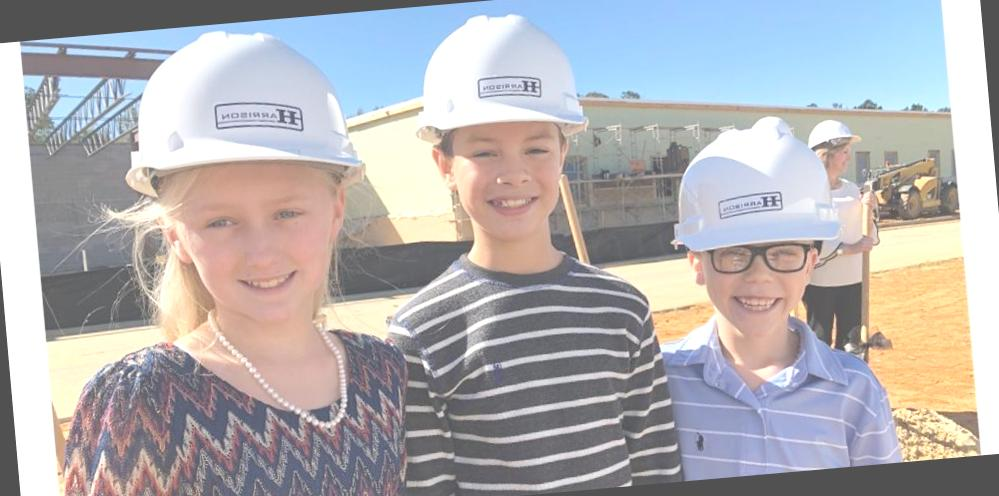helmet: (84, 21, 372, 214), (390, 4, 598, 152), (655, 110, 859, 260)
no_vest: (388, 243, 676, 496), (55, 300, 415, 496), (662, 302, 896, 482)
person: (36, 23, 417, 496), (351, 0, 678, 496), (654, 108, 897, 468)
